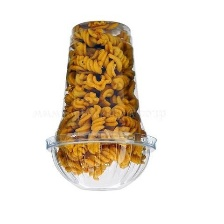glass: (41, 15, 159, 201)
